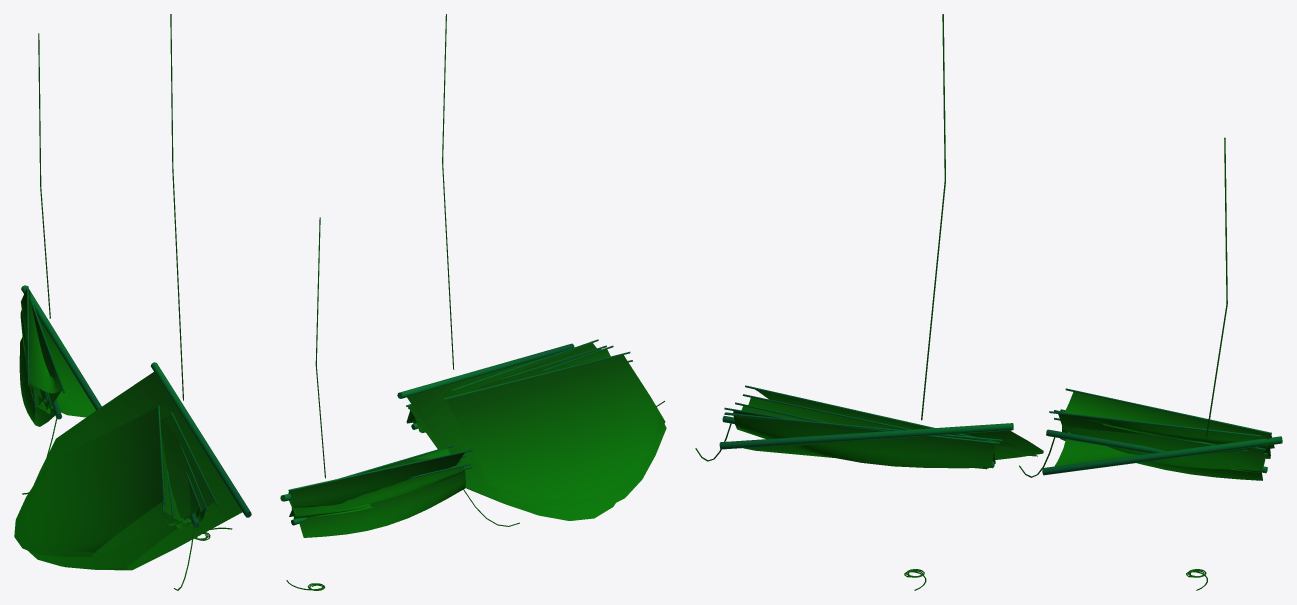
Rendered from terrace_sails_lowered.glb.
3 renders of one model, left to right at view 1: azimuth 30°, elevation 25°; view 2: azimuth 150°, elevation 25°; view 3: azimuth 270°, elevation 25°, orthographic. The views are drawn at different scales.
Parts seen in each view (by area): view 1: terrace_sails_lowered; view 2: terrace_sails_lowered; view 3: terrace_sails_lowered.
Boxes of the visible parts, box(x1,y1,x2,y2) form: terrace_sails_lowered: box(14, 14, 251, 590); terrace_sails_lowered: box(280, 14, 666, 590); terrace_sails_lowered: box(695, 14, 1282, 590).
Size of what is drawn, in the model's own units: 5.87 by 13.4 by 12.92.
